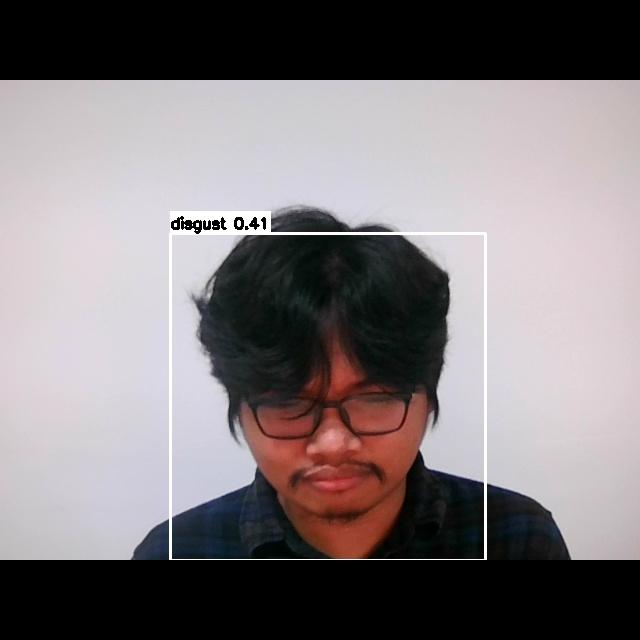Disgust: (236, 360, 436, 513)
